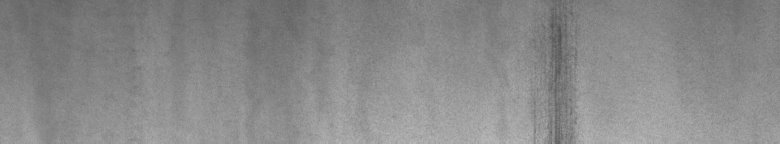ka: (532, 12, 576, 136)
